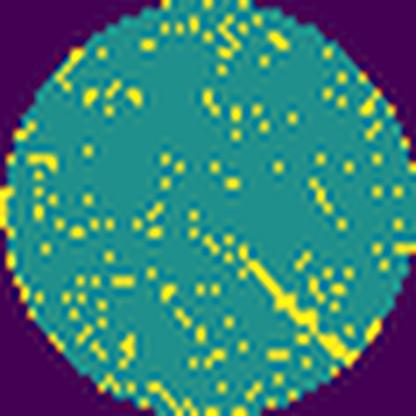Scratch: (240, 249, 354, 363)
